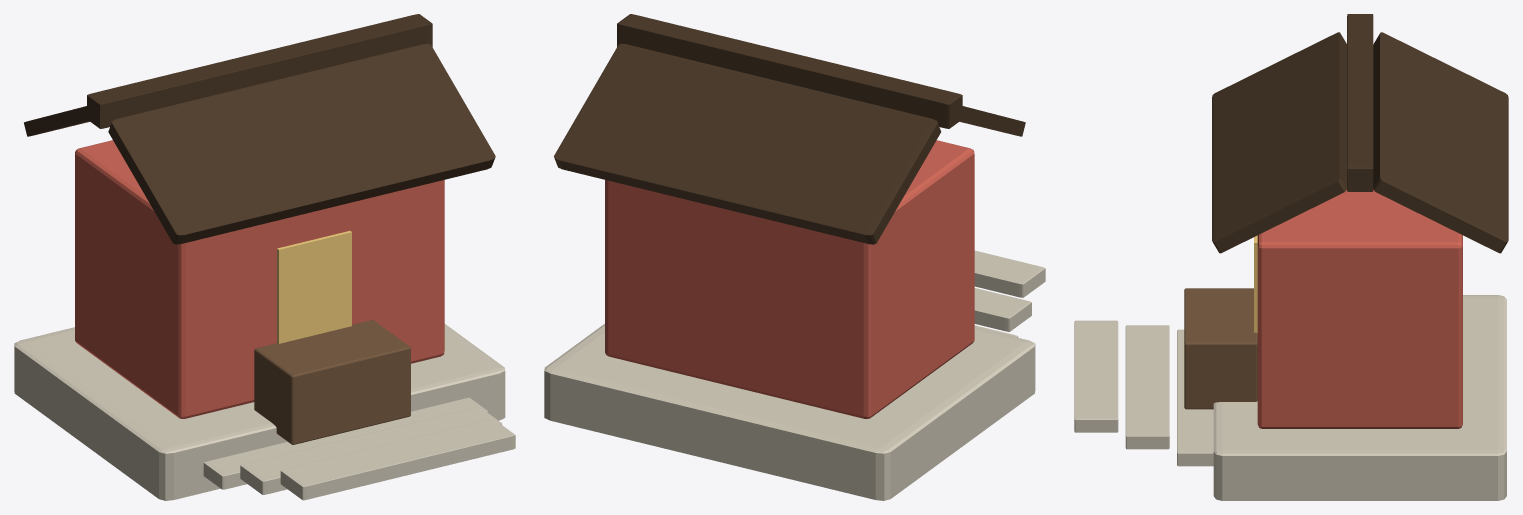
File: shrine.glb
3 views of the same model, side by side, from view 1: azimuth 30°, elevation 25°; view 2: azimuth 150°, elevation 25°; view 3: azimuth 270°, elevation 25° (orthographic). The views are drawn at different scales.
Visible parts, largest first — view 1: Shrine; view 2: Shrine; view 3: Shrine.
Part boxes in pixels (x1,y1,x2,y2): Shrine: [14, 14, 515, 500]; Shrine: [544, 14, 1045, 500]; Shrine: [1074, 14, 1508, 500].
Size of the model in its own units: 2.6 by 2.49 by 2.96.
